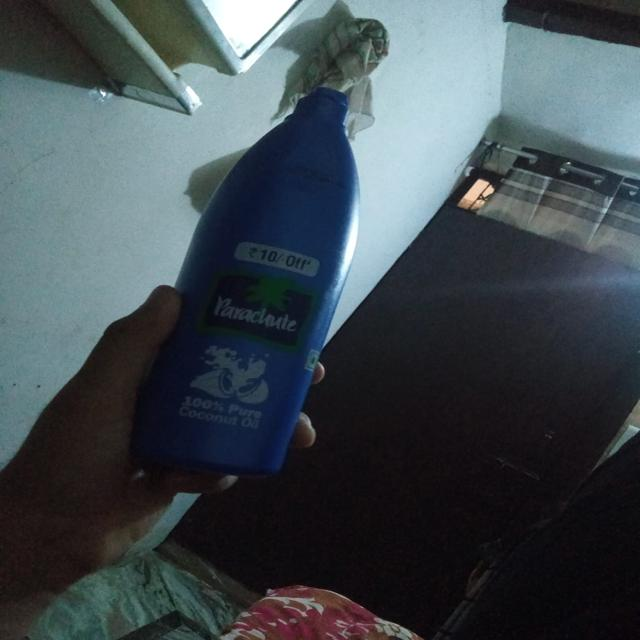parachute_oil: (143, 79, 358, 483)
